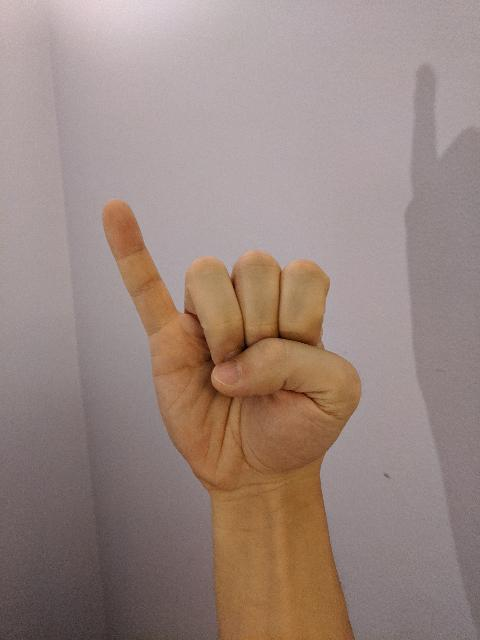I: (97, 194, 367, 496)
